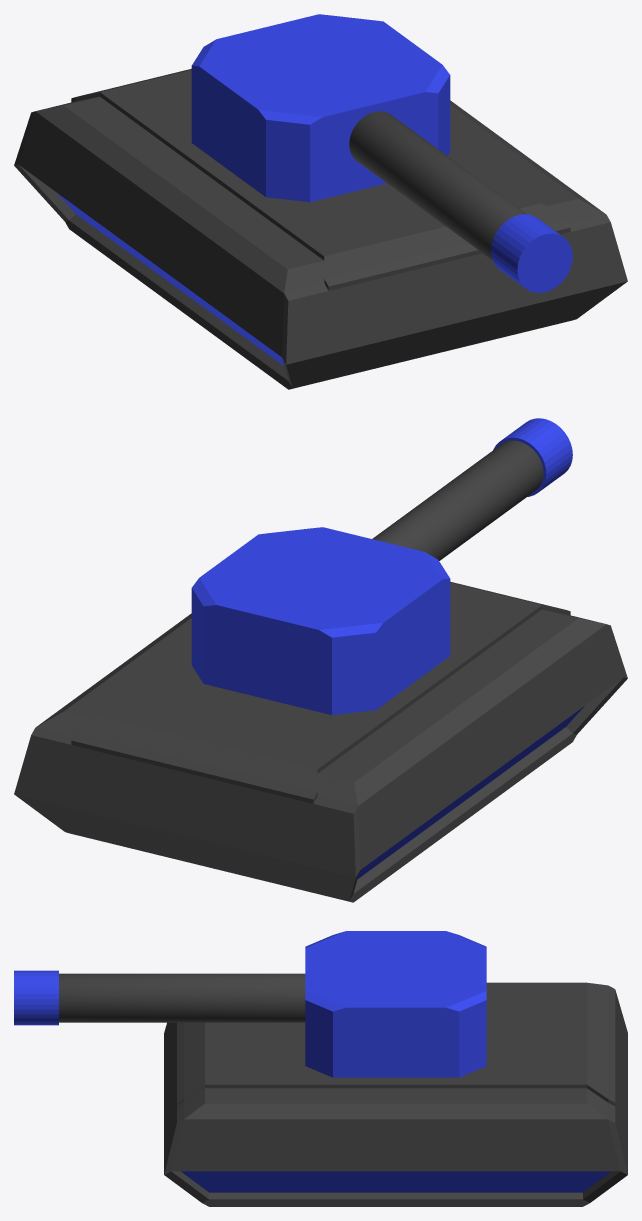
Rendered from base_tank_Blue.fbx.
3 renders of one model, top to bottom at view 1: azimuth 30°, elevation 25°; view 2: azimuth 150°, elevation 25°; view 3: azimuth 270°, elevation 25°, orthographic. The views are drawn at different scales.
Parts seen in each view (by area): view 1: Body, Weapon; view 2: Body, Weapon; view 3: Body, Weapon.
Boxes of the visible parts, box(x1,y1,x2,y2) form: Body: box(14, 69, 627, 389); Weapon: box(191, 14, 572, 292); Body: box(14, 581, 627, 902); Weapon: box(191, 418, 572, 715); Body: box(164, 982, 627, 1206); Weapon: box(14, 931, 486, 1077).
Size of the model in its own units: 1.08 by 0.6294 by 1.96.
2 materials, 2 textured.
